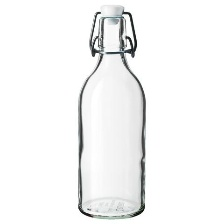bottle: (69, 1, 156, 221)
